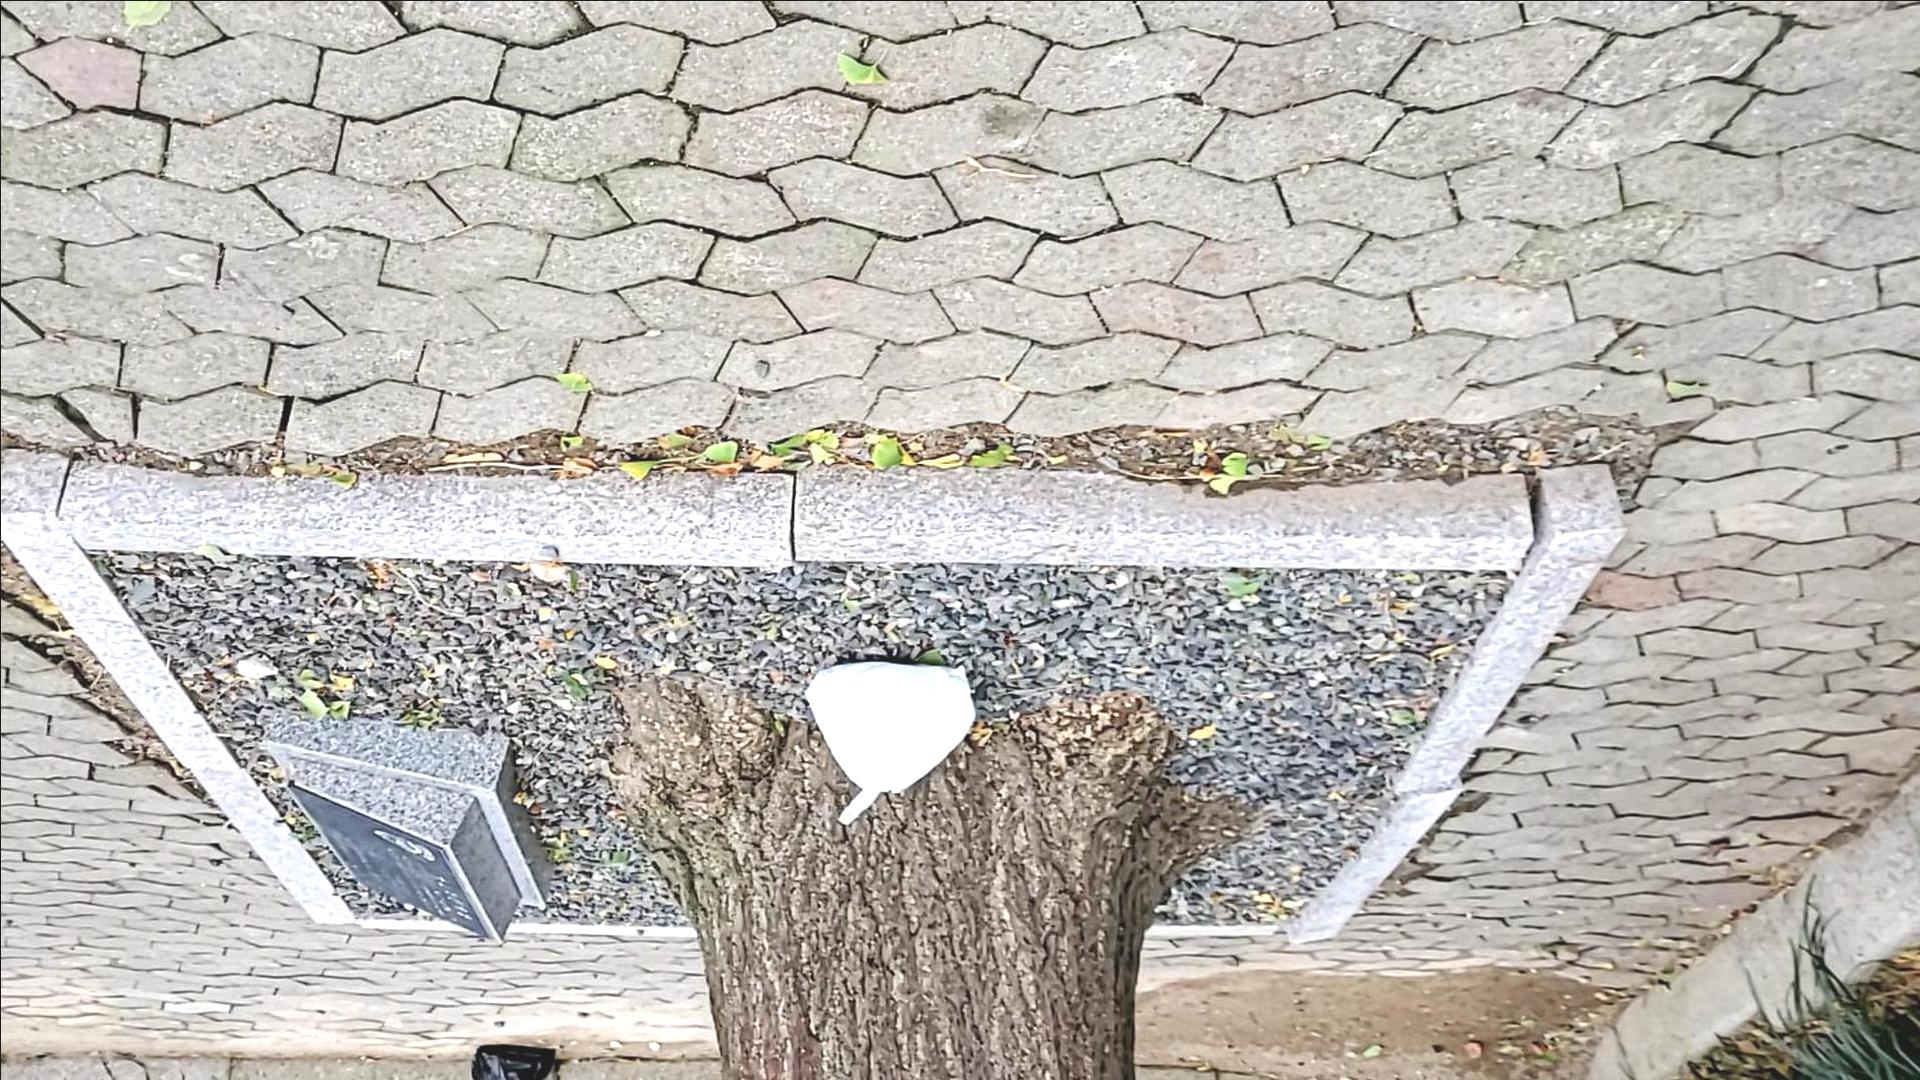white_bag: (798, 640, 990, 837)
